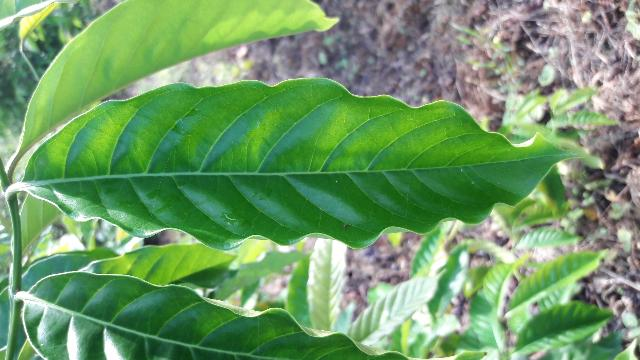healthy: (23, 78, 583, 249)
